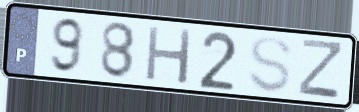2: (198, 28, 240, 94)
8: (99, 19, 138, 81)
9: (47, 16, 87, 76)
H: (143, 23, 195, 87)
S: (245, 34, 295, 96)
Z: (296, 37, 346, 102)
